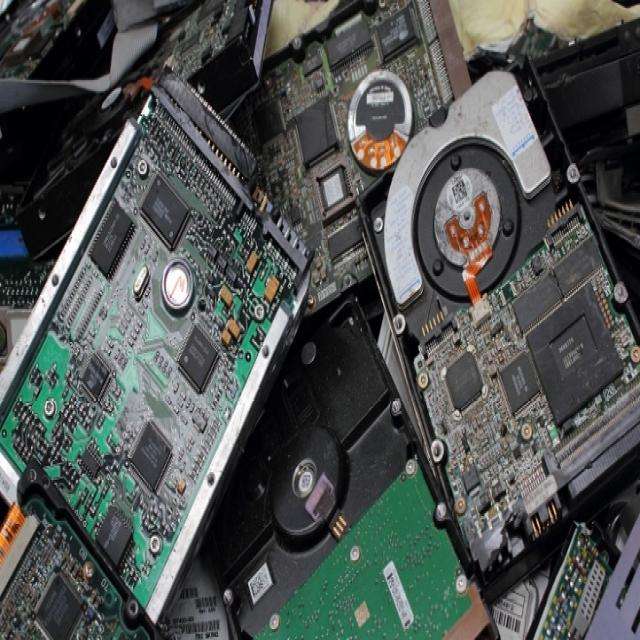hazard: (2, 15, 602, 617)
